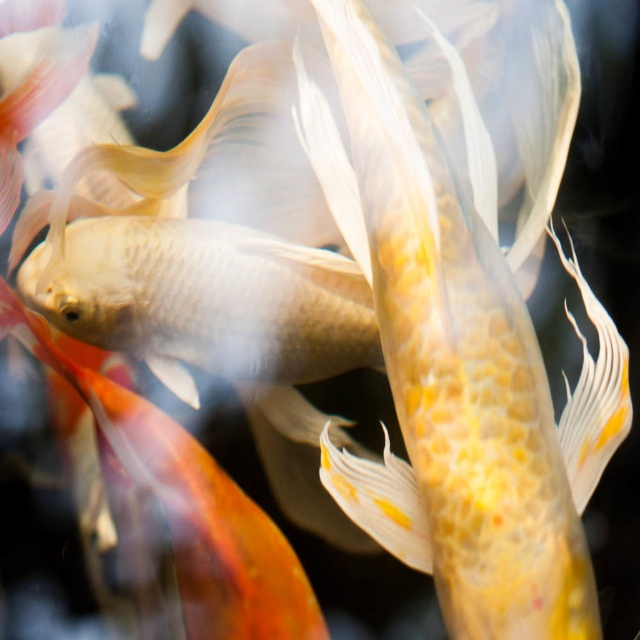Goldfish: (20, 25, 619, 622)
